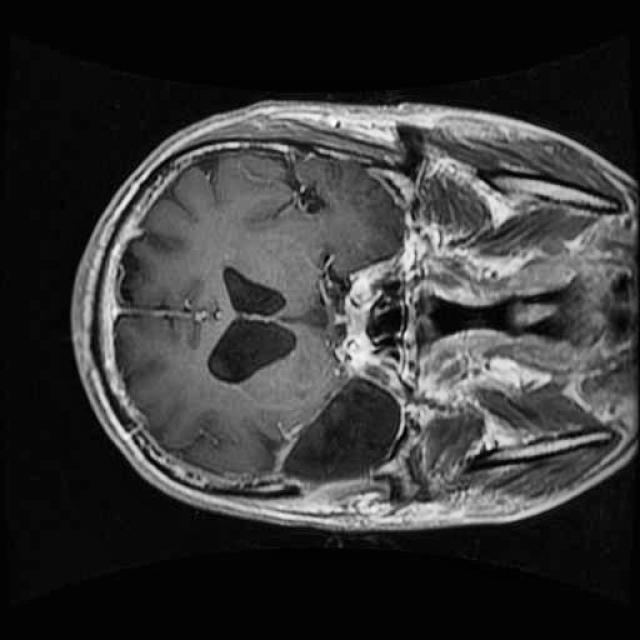Non-Tumor: (266, 354, 420, 509)
